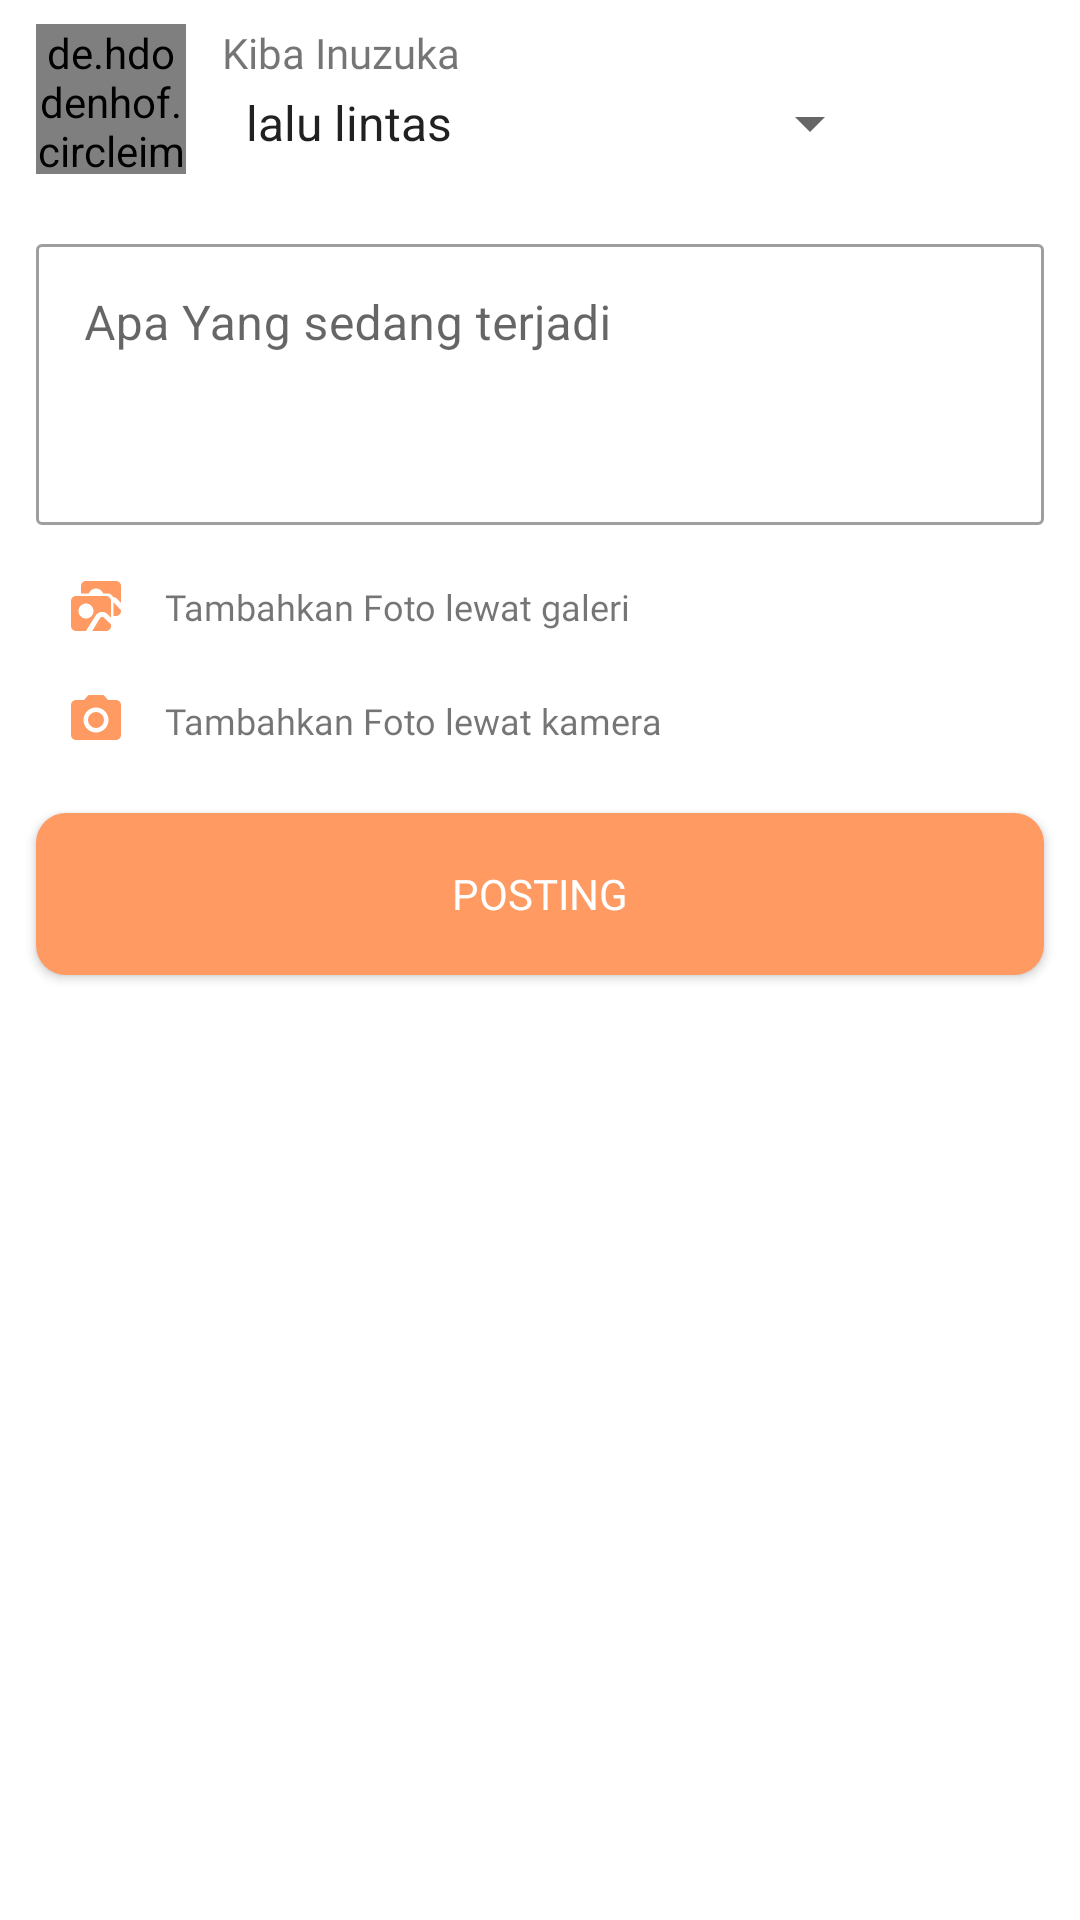

Where icons sit on this 1080x1920 app screen, as (x1, y1, x2, y2):
camera: (71, 695, 121, 740)
